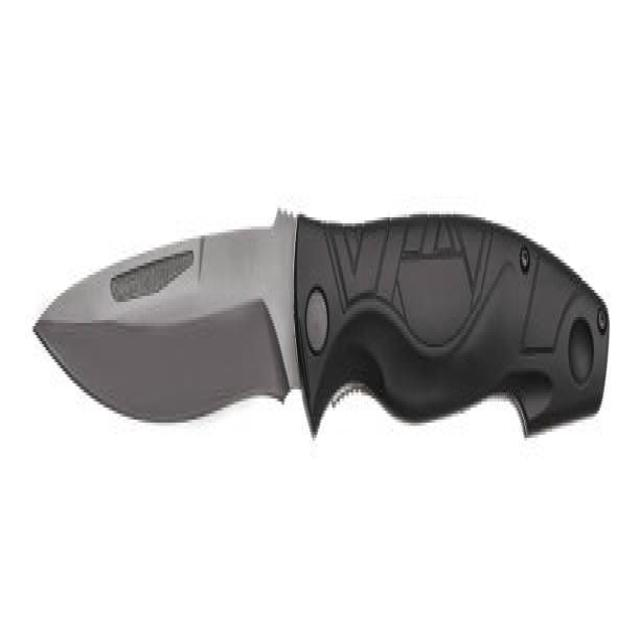knife: (30, 165, 614, 450)
